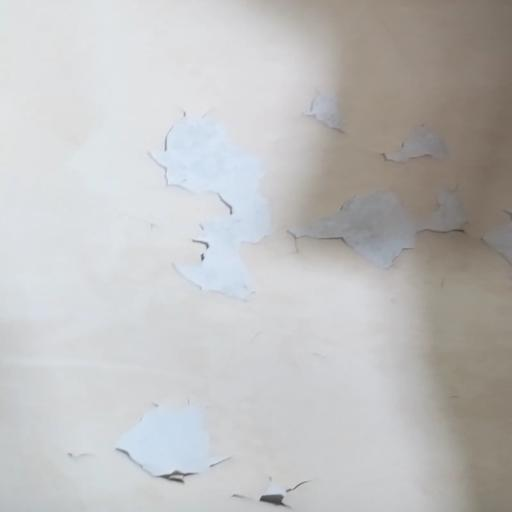peeling: (294, 68, 512, 288), (132, 87, 283, 300), (105, 373, 312, 512)
